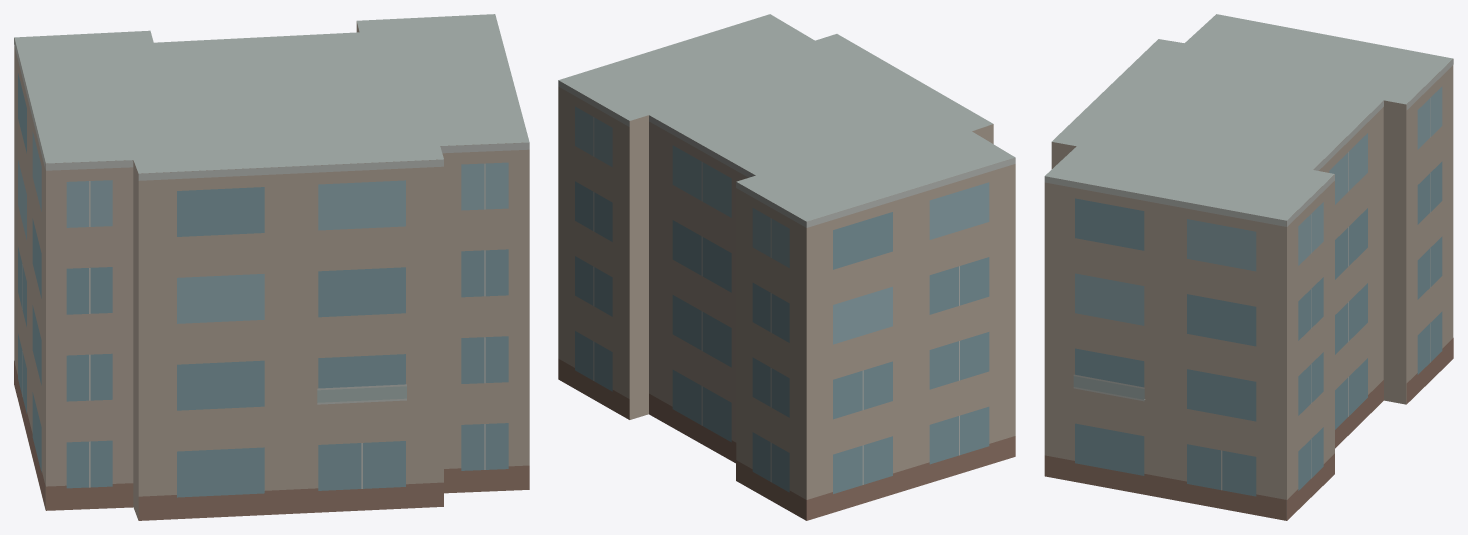
Rendered from survey-upis-32529974.glb.
The picture shows the model from 3 angles, left to right: view 1: azimuth 30°, elevation 25°; view 2: azimuth 150°, elevation 25°; view 3: azimuth 270°, elevation 25°; orthographic projection. The views are drawn at different scales.
Parts seen in each view (by area): view 1: survey-upis-32529974.tmp; view 2: survey-upis-32529974.tmp; view 3: survey-upis-32529974.tmp.
Part boxes in pixels (x1,y1,x2,y2): survey-upis-32529974.tmp: (14,14,529,520); survey-upis-32529974.tmp: (558,14,1015,520); survey-upis-32529974.tmp: (1044,14,1453,520).
Bounding box in the file's own units: 17.22 × 11.65 × 14.39.
